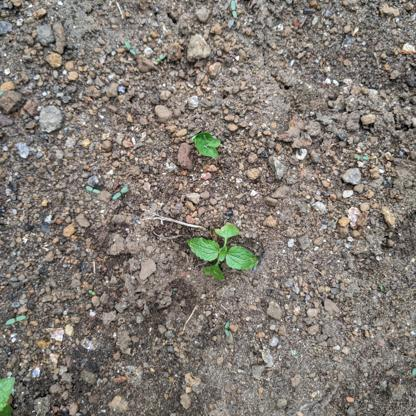weed: (185, 221, 260, 282), (191, 129, 229, 165)
